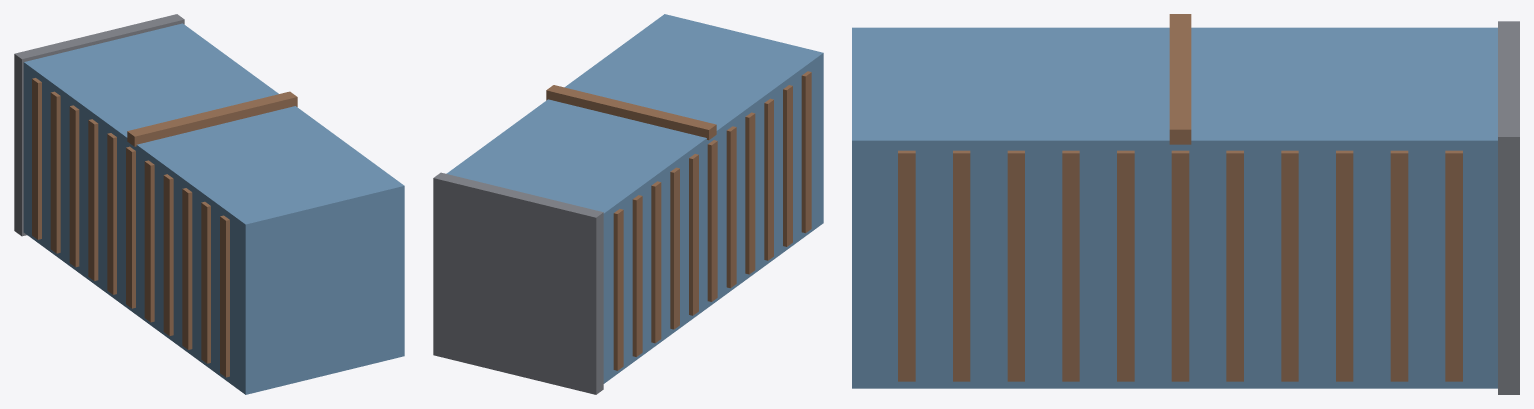
The model's file is wasteland_container_blue.glb.
3 views of the same model, side by side, from view 1: azimuth 30°, elevation 25°; view 2: azimuth 150°, elevation 25°; view 3: azimuth 270°, elevation 25° (orthographic). The views are drawn at different scales.
Visible parts, largest first — view 1: Prop_ContainerBlue; view 2: Prop_ContainerBlue; view 3: Prop_ContainerBlue.
Boxes of the visible parts, bbox=[...] form: Prop_ContainerBlue: bbox=[14, 14, 404, 394]; Prop_ContainerBlue: bbox=[433, 14, 823, 394]; Prop_ContainerBlue: bbox=[852, 14, 1519, 394].
Bounding box in the file's own units: 2.56 × 2.67 × 6.1.
